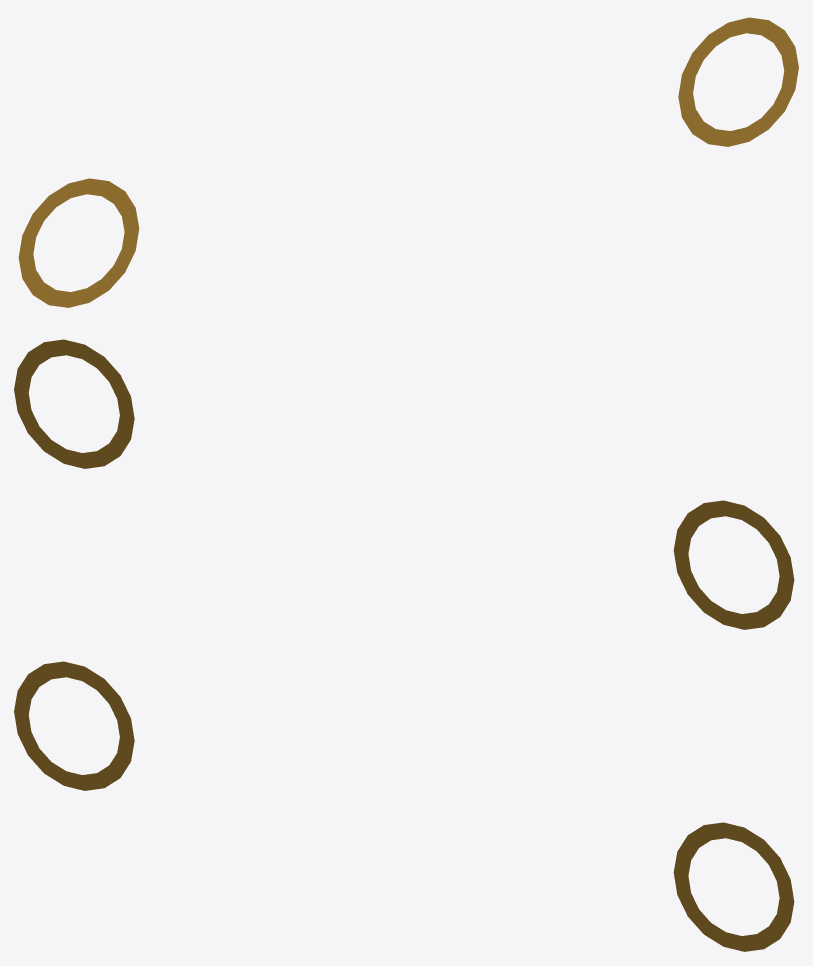
File: gold_hoops.gltf
3 views of the same model, one above another, from view 1: azimuth 30°, elevation 25°; view 2: azimuth 150°, elevation 25°; view 3: azimuth 330°, elevation 25° (orthographic).
Parts seen in each view (by area): view 1: Orbit Hoop Earrings; view 2: Orbit Hoop Earrings; view 3: Orbit Hoop Earrings.
Part boxes in pixels (<box>): Orbit Hoop Earrings: <box>18,17,798,307</box>; Orbit Hoop Earrings: <box>14,339,794,629</box>; Orbit Hoop Earrings: <box>14,661,794,951</box>.
Size of the model in its own units: 0.582 by 0.0886 by 0.006.
1 material, 1 textured.
